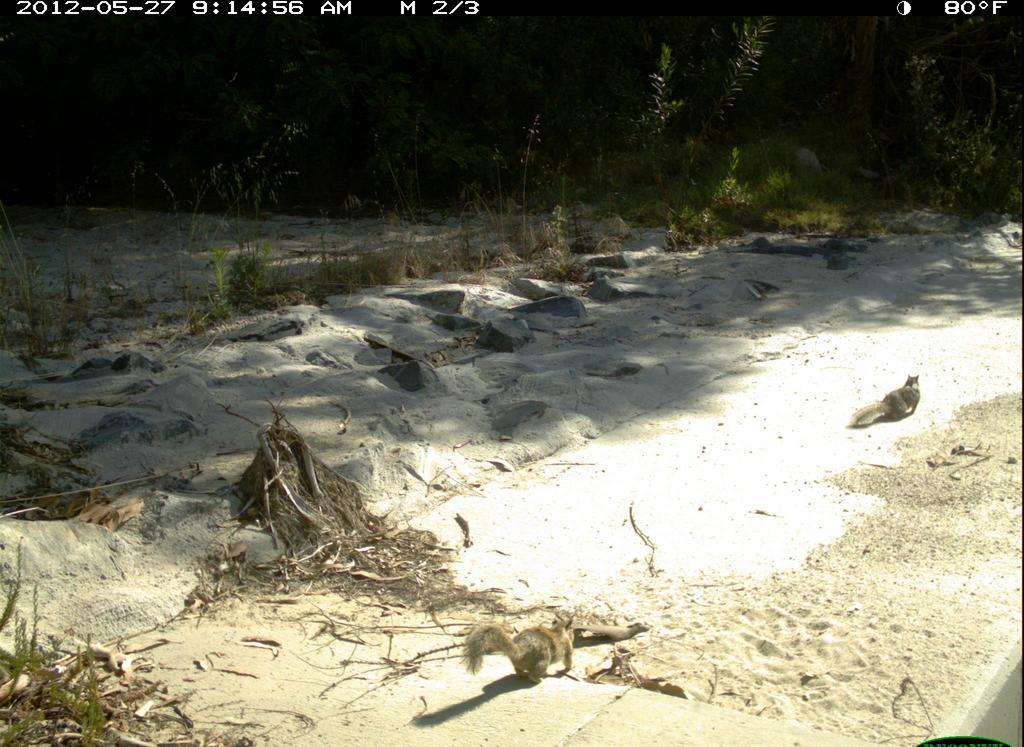squirrel: (454, 603, 592, 692), (845, 369, 926, 437)
